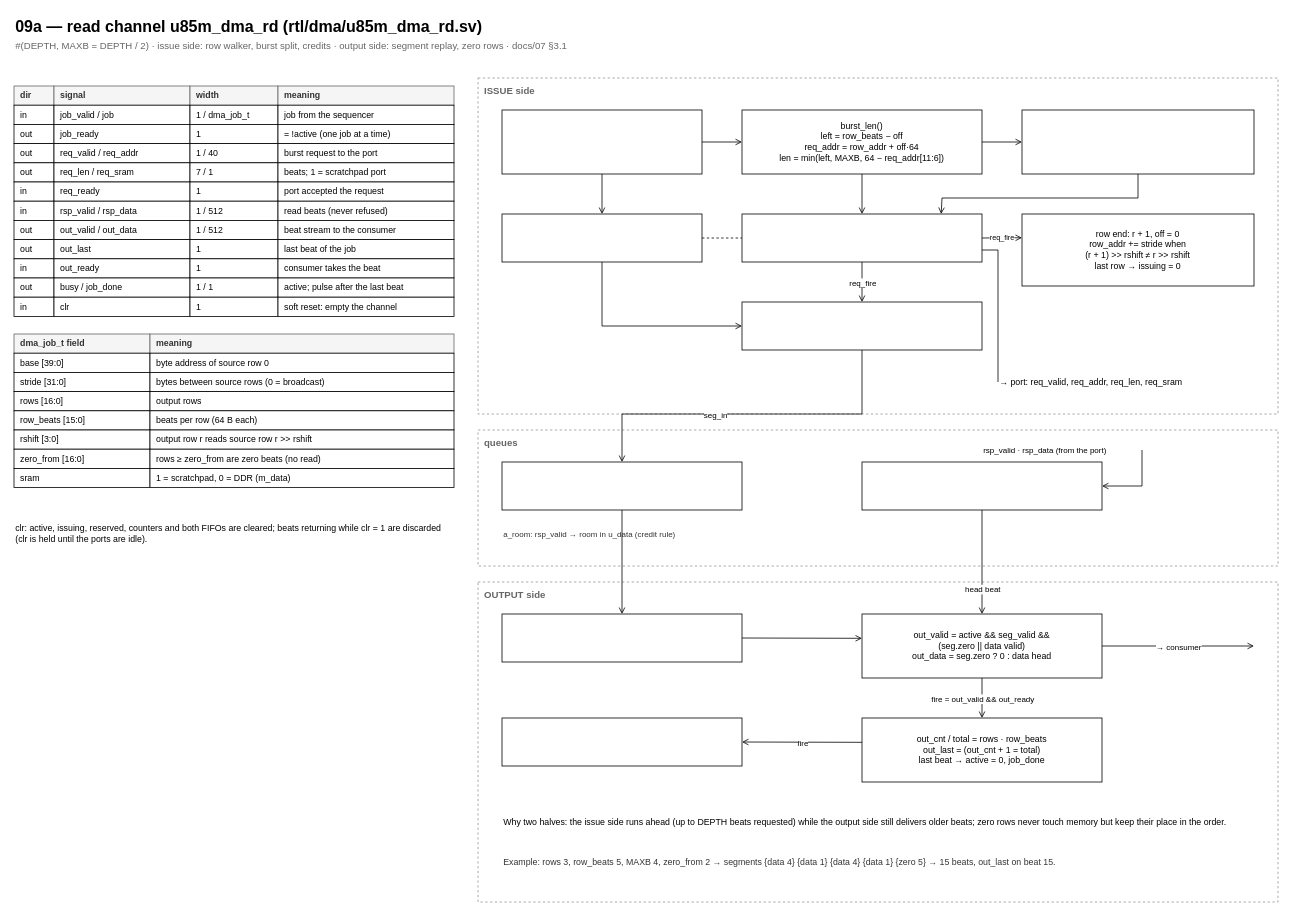
The diagram is 1292 pixels wide and 916 high, and some of its shapes have lost their labels. The centre of each missing label's shape, as x and y in pixels:
"credit_ok = reserved + len ≤ DEPTH (reserved: requested, not popped)" goes at point (1137, 141).
"d_pop = fire && !seg.zero (reserved − 1)" goes at point (621, 741).
"head segment seg, seg_pos seg_pop after seg.len beats" goes at point (621, 637).
"job register j r (row) · off (beat in row) row_addr (source row address)" goes at point (601, 141).
"req_valid = issuing && !zero_row && credit_ok && seg_in_ready" goes at point (861, 237).
"segment push {zero, len} per burst or zero row" goes at point (861, 325).
"u_data u85m_fifo #(RAM=1) DEPTH × 512 b" goes at point (981, 485).
"u_seg u85m_fifo 8 × {zero, len[15:0]} (flip-flops)" goes at point (621, 485).
"zero_row = r ≥ zero_from → one zero segment, no request" goes at point (601, 237).
